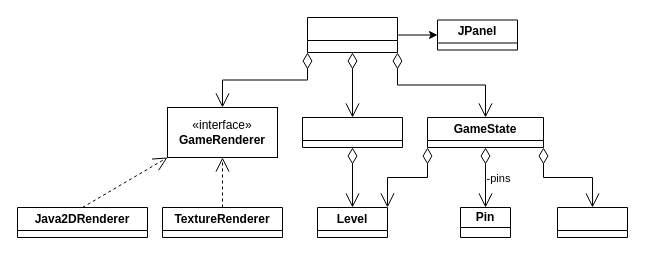
The diagram is 645 pixels wide and 255 high, and some of its shapes have lost their labels. Here are the shapes that lost their labels. From the top down, the box of each, then its label:
(306, 16, 398, 52): GamePanel
(302, 116, 402, 148): GameEngine
(556, 206, 628, 238): Snake
